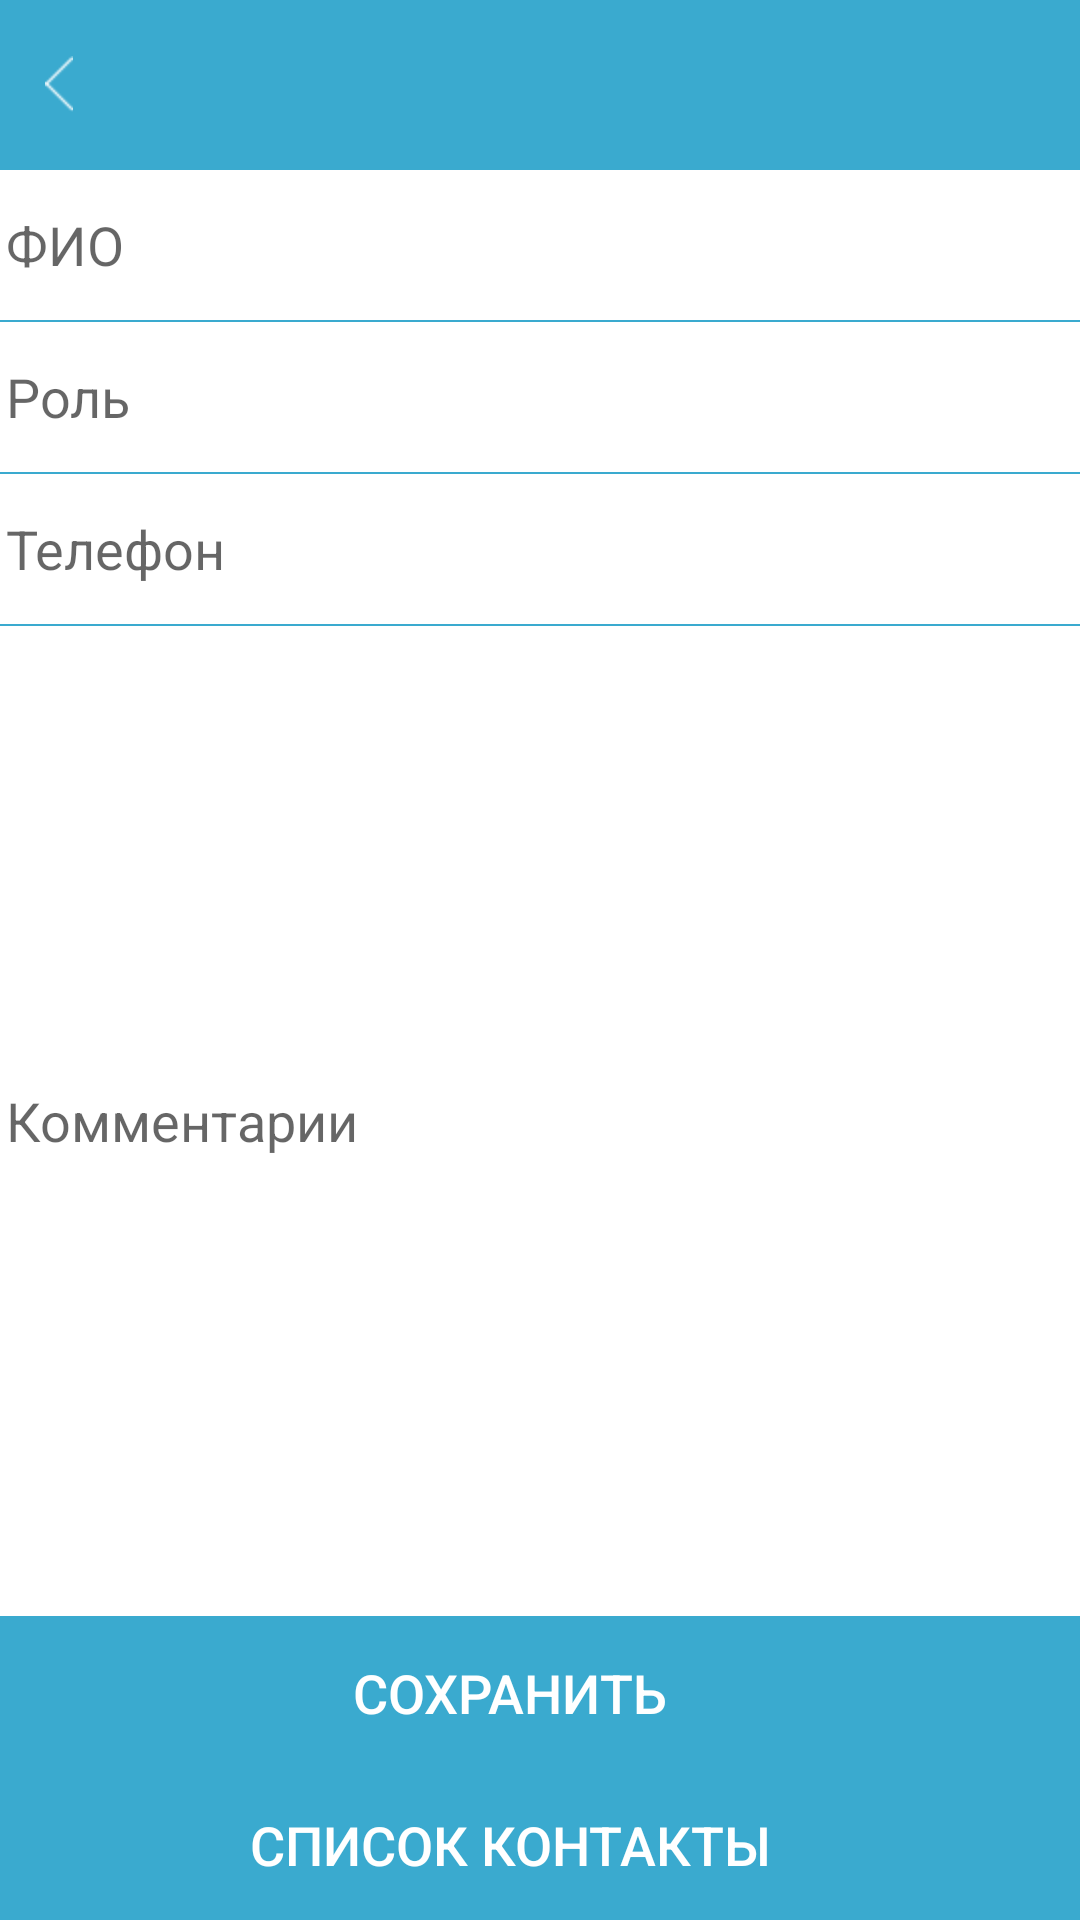

Named icons in this screenshot (1080px×1920px) and their centers, (x,y):
back: (59,83)
